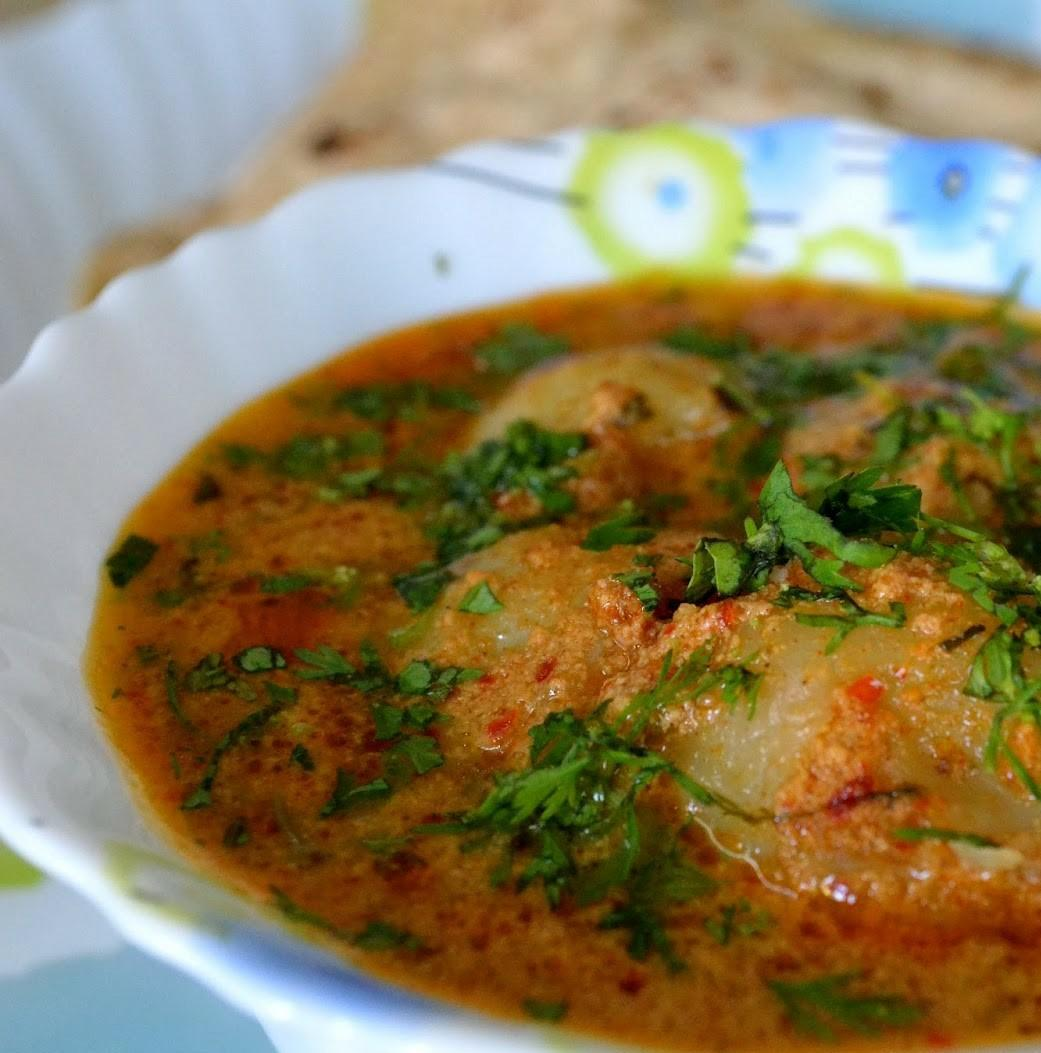DumAloo: (87, 280, 1041, 1053)
